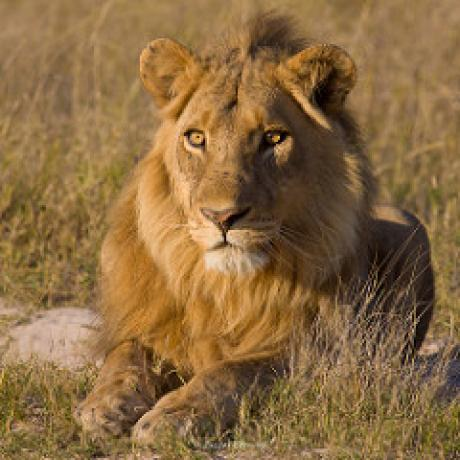Lion: (83, 17, 438, 448)
